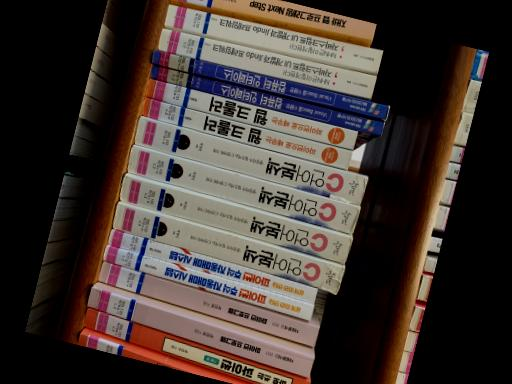book-spine: (112, 203, 343, 294), (133, 116, 366, 205), (126, 145, 359, 234), (119, 175, 351, 264), (85, 287, 313, 377), (97, 261, 318, 347), (82, 308, 309, 384), (150, 49, 389, 121), (148, 65, 383, 134), (101, 246, 312, 321), (156, 28, 375, 100), (140, 98, 351, 170), (162, 4, 382, 73), (107, 231, 316, 303), (145, 78, 356, 149), (177, 0, 375, 39)
